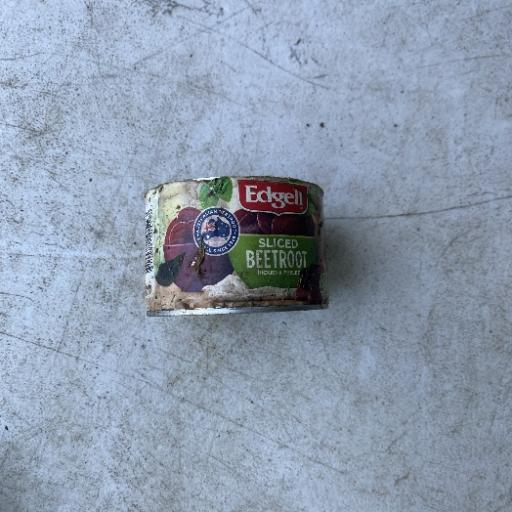Metal: (143, 174, 328, 316)
